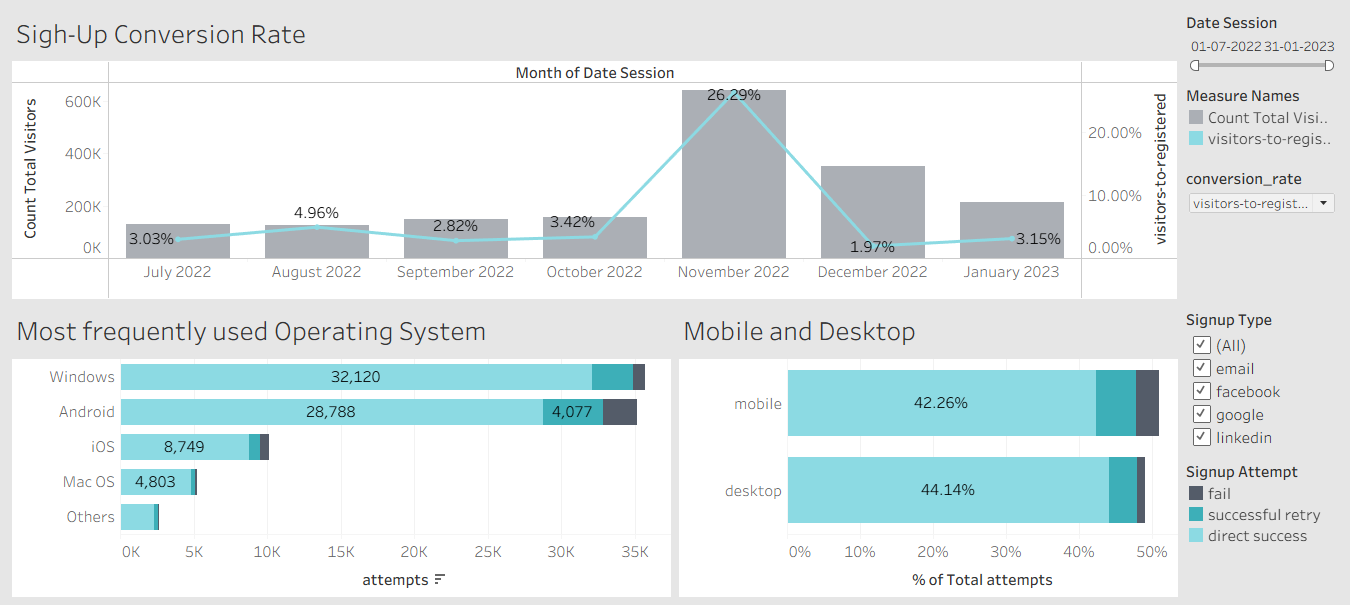

Layout of this report page (visuals, bound fields, positions):
{"tool":"tableau","page":{"name":"Dashboard 1","canvas":[1350,609],"ordinal":0},"visuals":[{"type":"worksheet","title":"visitors-to-registered","mark":"Bar","rows":["count_total_visitors","Calculation_237846361140547584"],"cols":["date_session"],"box":[8,8,1173.9,295.5]},{"type":"filter","title":"visitors-to-registered","param":"[federated.0tov7nz1i1jsf01fsjbdi0heswap].[none:date_session:qk]","box":[1181.9,8,160,73]},{"type":"legend","title":"visitors-to-registered","param":"[federated.0tov7nz1i1jsf01fsjbdi0heswap].[:Measure Names]","box":[1181.9,81,160,83]},{"type":"parameter","param":"[Parameters].[Parameter 1]","box":[1181.9,164,160,56]},{"type":"worksheet","title":"visitors-to-free","mark":"Line","rows":["count_total_visitors","Calculation_237846361141411841"],"cols":["date_session"],"box":[8,303.5,1173.9,1]},{"type":"worksheet","title":"Operating system","mark":"Automatic","cols":["Calculation_237846361151590402"],"box":[8,304.5,667,296.5]},{"type":"worksheet","title":"devices","mark":"Automatic","rows":["device"],"box":[675,304.5,507,296.5]},{"type":"filter","title":"Operating system","param":"[federated.0os5h601f2ipod0zopygu1gzgrjf].[none:signup_type:nk]","box":[1182,304.5,160,152]},{"type":"legend","title":"Operating system","param":"[federated.0os5h601f2ipod0zopygu1gzgrjf].[none:signup_attempt:nk]","box":[1182,456.5,160,93]}]}

Visuals, with their boxes in screenshot pixels (x1, y1, x2, y2), scaled from the page's 1350x609 canvas onto the 1350x605 screenshot:
"visitors-to-registered" worksheet (Bar marks): bbox=[8, 8, 1182, 302]
"visitors-to-registered" filter: bbox=[1182, 8, 1342, 80]
"visitors-to-registered" legend: bbox=[1182, 80, 1342, 163]
parameter: bbox=[1182, 163, 1342, 219]
"Operating system" worksheet: bbox=[8, 302, 675, 597]
"devices" worksheet: bbox=[675, 302, 1182, 597]
"Operating system" filter: bbox=[1182, 302, 1342, 454]
"Operating system" legend: bbox=[1182, 454, 1342, 546]
